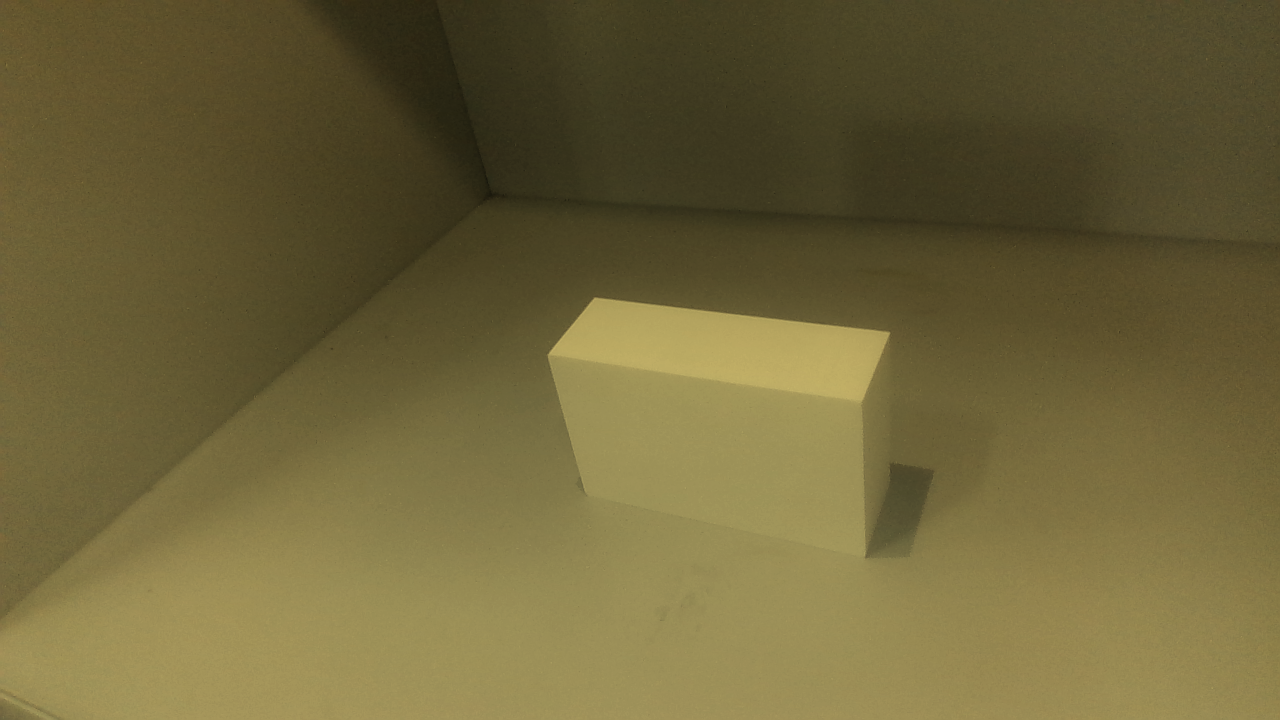Retangulo: (548, 298, 889, 556)
